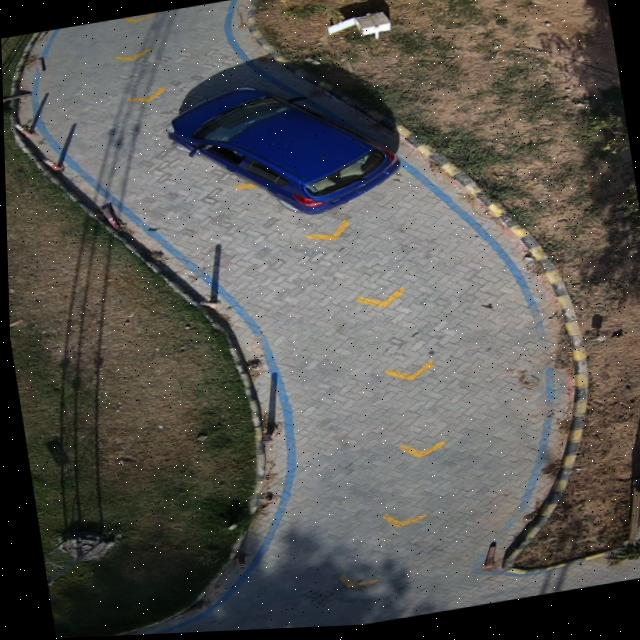car: (167, 90, 396, 216)
